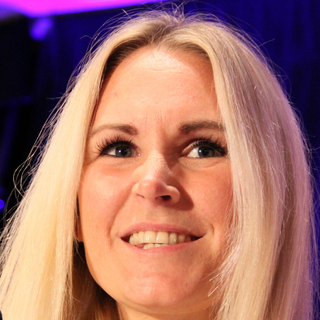eye: (178, 136, 226, 164), (96, 136, 140, 164)
